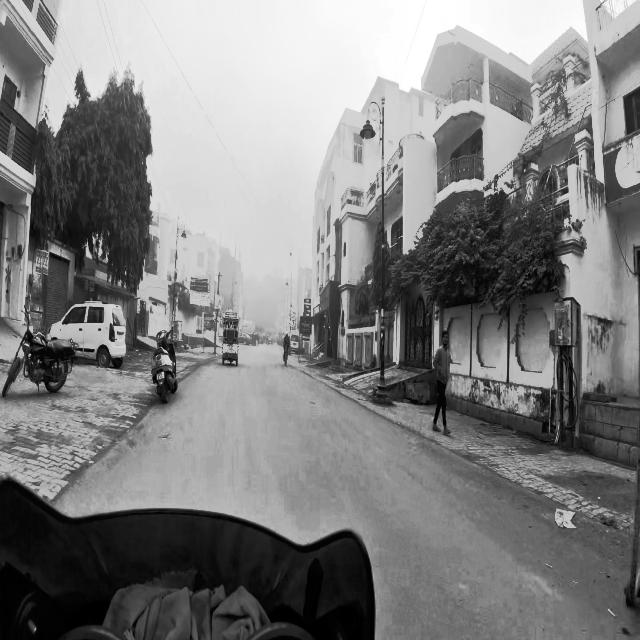Car: (50, 277, 131, 385)
Toto: (220, 302, 242, 373)
